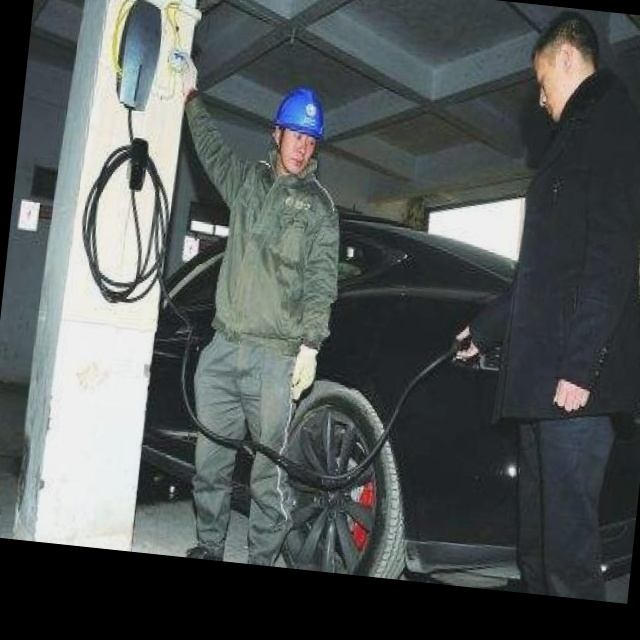Sin_Chaleco: (213, 158, 345, 358)
